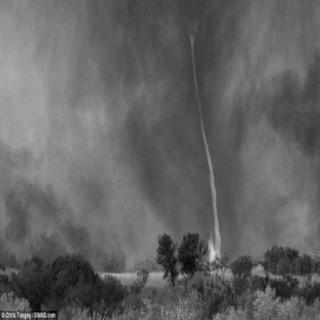Smoke: (266, 58, 317, 138), (232, 82, 248, 152)
